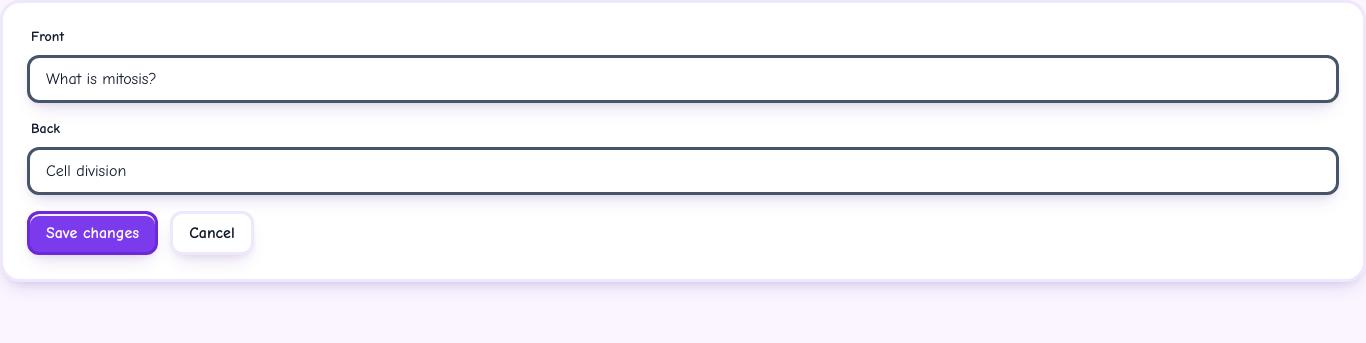
Scenario: EditCardForm › shows an API error and keeps the values
Click the button "Save changes" at [93, 233], box [27,211,158,255]
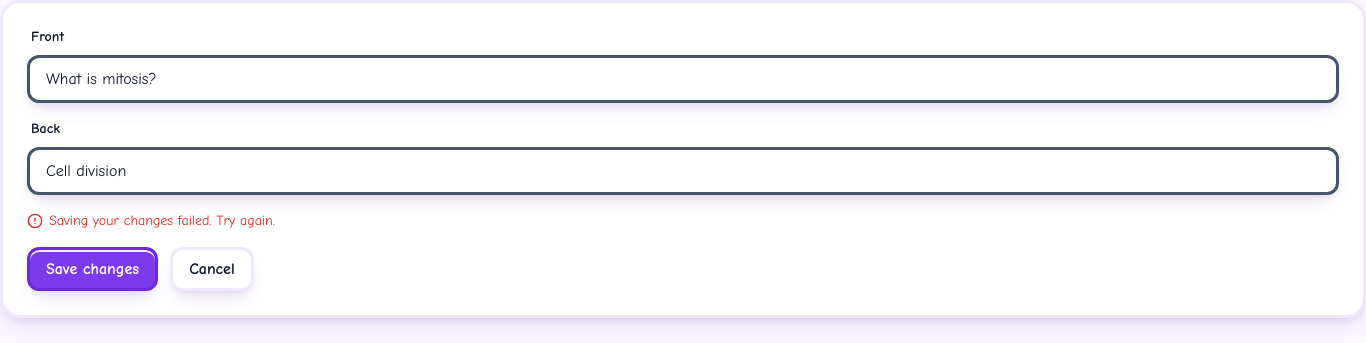
Expected: the field labelled "Front" holds "What is mitosis?", [27,55,1339,103]
Now the message reads "Saving your changes failed. Try again.", box [49,212,275,229]
